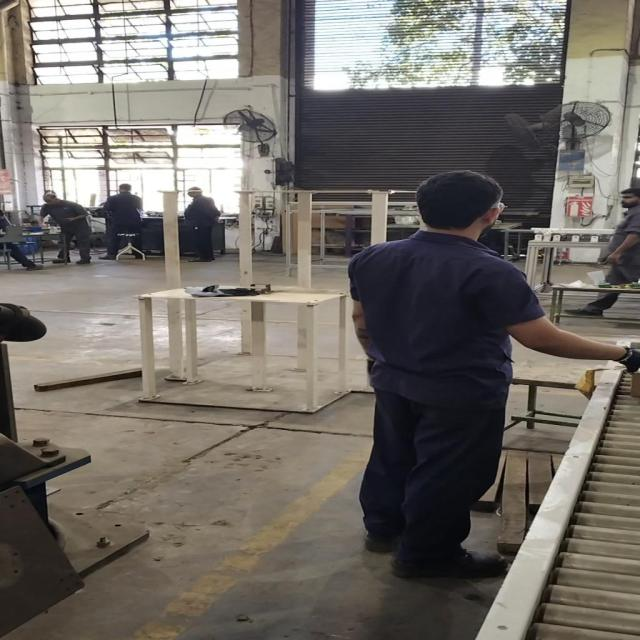Gloves-Detection: (614, 346, 640, 374)
